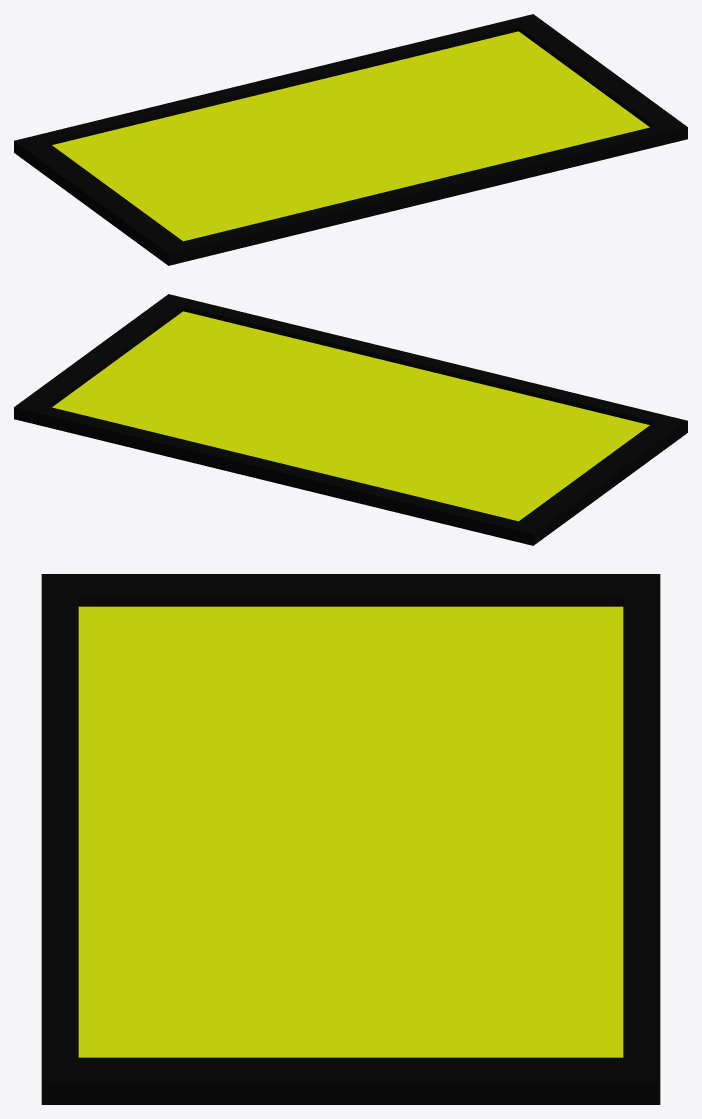
The model's file is Warning Sign.fbx.
3 renders of one model, top to bottom at view 1: azimuth 30°, elevation 25°; view 2: azimuth 150°, elevation 25°; view 3: azimuth 270°, elevation 25°, orthographic. The views are drawn at different scales.
Parts seen in each view (by area): view 1: Warning Sign; view 2: Warning Sign; view 3: Warning Sign.
Part boxes in pixels (x1,y1,x2,y2): Warning Sign: [14, 14, 687, 265]; Warning Sign: [14, 294, 687, 545]; Warning Sign: [41, 574, 660, 1104].
Bounding box in the file's own units: 413 × 9.11 × 213.
